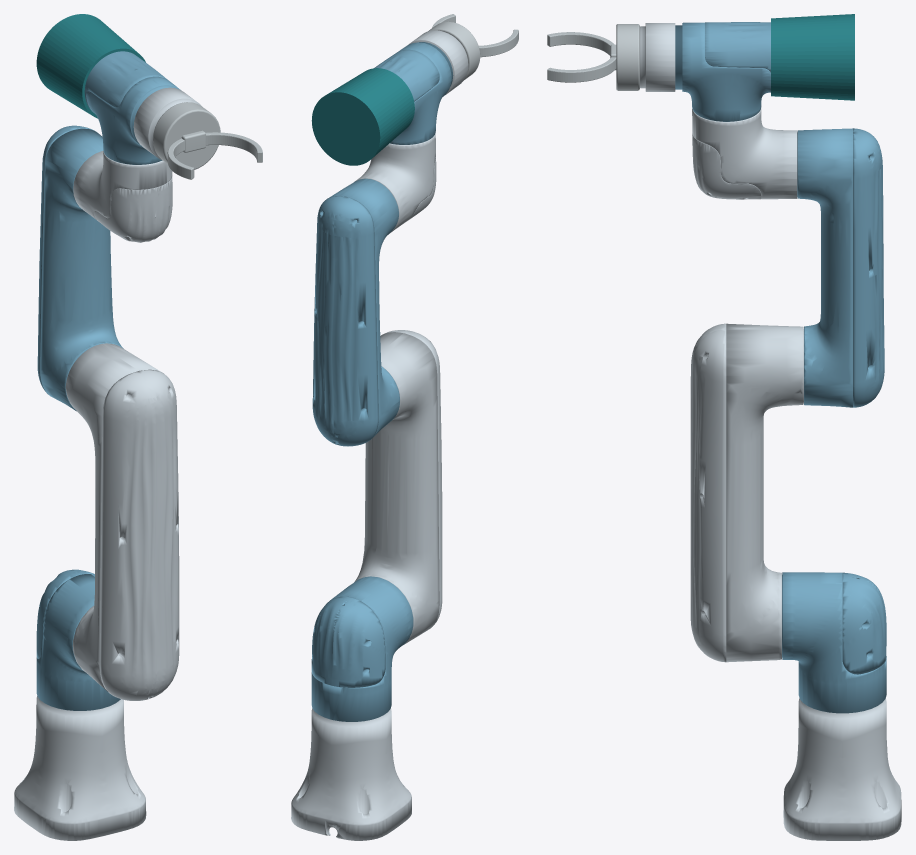
File: nova2_coffee.glb
3 renders of one model, left to right at view 1: azimuth 30°, elevation 25°; view 2: azimuth 150°, elevation 25°; view 3: azimuth 270°, elevation 25°, orthographic. The views are drawn at different scales.
Parts seen in each view (by area): view 1: nova2_coffee / Link2 visual, nova2_coffee / Link3 visual, nova2_coffee / base_link visual, nova2_coffee / Link1 visual, nova2_coffee / Link4 visual, nova2_coffee / Link5 visual, Printed truncated-cone cup stamp, Cup tong flange, nova2_coffee / Link6 visual, Left curved cup tong / 85 mm ID, Right curved cup tong / 85 mm ID; view 2: nova2_coffee / Link3 visual, nova2_coffee / Link2 visual, nova2_coffee / base_link visual, nova2_coffee / Link1 visual, Printed truncated-cone cup stamp, nova2_coffee / Link5 visual, nova2_coffee / Link4 visual, nova2_coffee / Link6 visual, Cup tong flange, Right curved cup tong / 85 mm ID; view 3: nova2_coffee / Link2 visual, nova2_coffee / Link3 visual, nova2_coffee / base_link visual, nova2_coffee / Link1 visual, nova2_coffee / Link5 visual, nova2_coffee / Link4 visual, Printed truncated-cone cup stamp, nova2_coffee / Link6 visual, Cup tong flange, Left curved cup tong / 85 mm ID, Right curved cup tong / 85 mm ID.
Part boxes in pixels (x1,y1,x2,y2): nova2_coffee / Link2 visual: (65, 343, 179, 700); nova2_coffee / Link3 visual: (37, 125, 123, 411); nova2_coffee / base_link visual: (14, 696, 146, 840); nova2_coffee / Link1 visual: (36, 569, 120, 710); nova2_coffee / Link4 visual: (73, 150, 172, 242); nova2_coffee / Link5 visual: (84, 51, 180, 164); Printed truncated-cone cup stamp: (36, 14, 145, 118); Cup tong flange: (153, 102, 220, 169); nova2_coffee / Link6 visual: (133, 87, 202, 160); Left curved cup tong / 85 mm ID: (206, 132, 262, 162); Right curved cup tong / 85 mm ID: (167, 138, 194, 179); nova2_coffee / Link3 visual: (312, 178, 399, 446); nova2_coffee / Link2 visual: (354, 330, 442, 644); nova2_coffee / base_link visual: (291, 708, 411, 840); nova2_coffee / Link1 visual: (311, 576, 413, 721); Printed truncated-cone cup stamp: (311, 68, 414, 165); nova2_coffee / Link5 visual: (374, 42, 453, 144); nova2_coffee / Link4 visual: (354, 133, 436, 232); nova2_coffee / Link6 visual: (408, 30, 468, 94); Cup tong flange: (428, 21, 480, 79); Right curved cup tong / 85 mm ID: (478, 29, 518, 57); nova2_coffee / Link2 visual: (690, 323, 803, 662); nova2_coffee / Link3 visual: (797, 128, 884, 407); nova2_coffee / base_link visual: (783, 698, 901, 840); nova2_coffee / Link1 visual: (782, 572, 886, 713); nova2_coffee / Link5 visual: (675, 22, 770, 121); nova2_coffee / Link4 visual: (692, 108, 797, 199); Printed truncated-cone cup stamp: (771, 14, 854, 100); nova2_coffee / Link6 visual: (640, 23, 675, 91); Cup tong flange: (616, 24, 639, 90); Left curved cup tong / 85 mm ID: (547, 57, 616, 82); Right curved cup tong / 85 mm ID: (547, 32, 614, 55).
Bounding box in the file's own units: 0.12 × 0.8924 × 0.3594.
